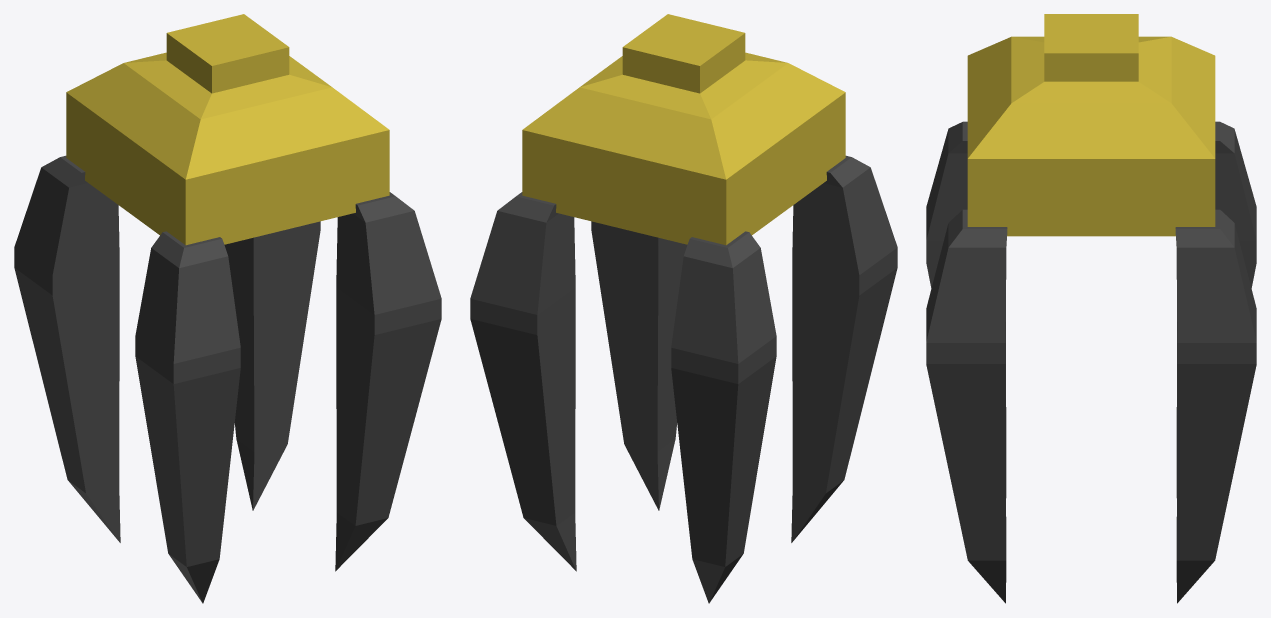
Rendered from CreanCar_Claw.fbx.
The picture shows the model from 3 angles, left to right: view 1: azimuth 30°, elevation 25°; view 2: azimuth 150°, elevation 25°; view 3: azimuth 270°, elevation 25°; orthographic projection. The views are drawn at different scales.
Visible parts, largest first — view 1: claw; view 2: claw; view 3: claw.
Part boxes in pixels (x1,y1,x2,y2): claw: (14, 14, 441, 603); claw: (470, 14, 897, 603); claw: (926, 14, 1256, 603).
Size of the model in its own units: 621 by 1146 by 640.
